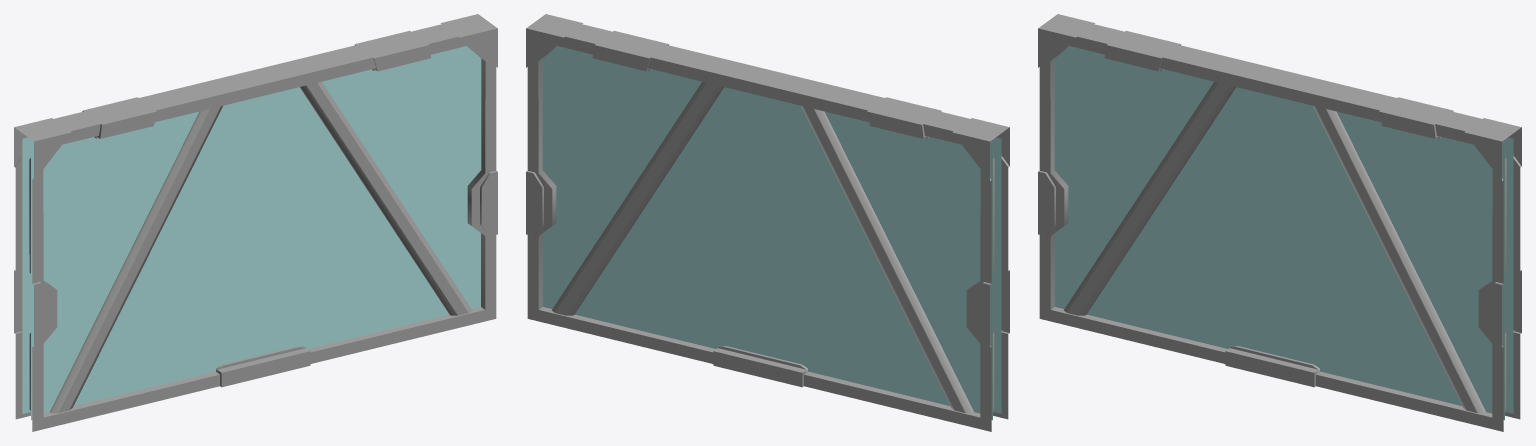
Rendered from OutWall_NoColonna.fbx.
3 renders of one model, left to right at view 1: azimuth 30°, elevation 25°; view 2: azimuth 150°, elevation 25°; view 3: azimuth 330°, elevation 25°, orthographic.
Parts seen in each view (by area): view 1: OutWall_WithGlass; view 2: OutWall_WithGlass; view 3: OutWall_WithGlass.
Boxes of the visible parts, x1,y1,x2,y2 form: OutWall_WithGlass: [14, 14, 497, 431]; OutWall_WithGlass: [526, 14, 1009, 431]; OutWall_WithGlass: [1038, 14, 1521, 431].
Size of the model in its own units: 500 by 300 by 37.71.
